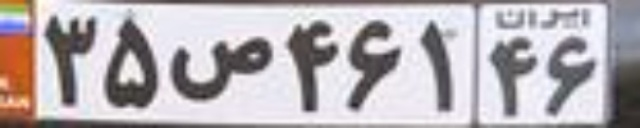1: (416, 21, 453, 111)
3: (46, 14, 92, 105)
4: (284, 20, 340, 111), (488, 36, 538, 115)
5: (102, 18, 158, 107)
6: (350, 20, 403, 110), (548, 36, 594, 115)
saat: (171, 34, 274, 102)
